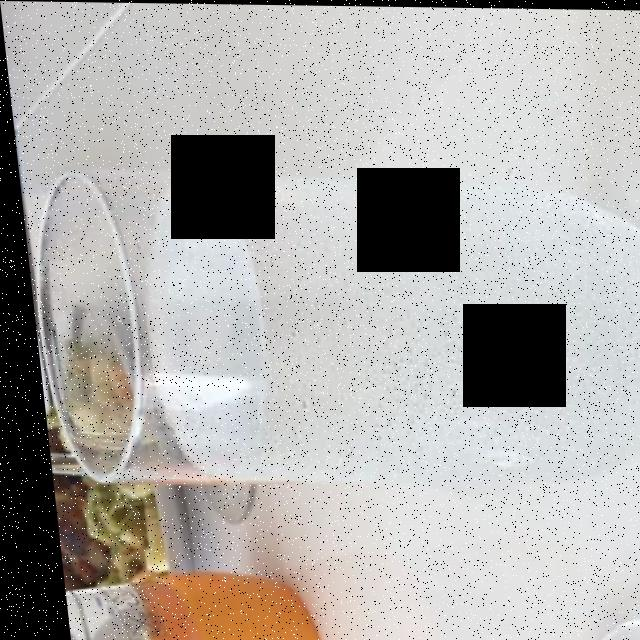water: (146, 173, 640, 487)
